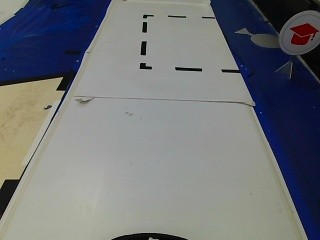school: (280, 12, 318, 55)
